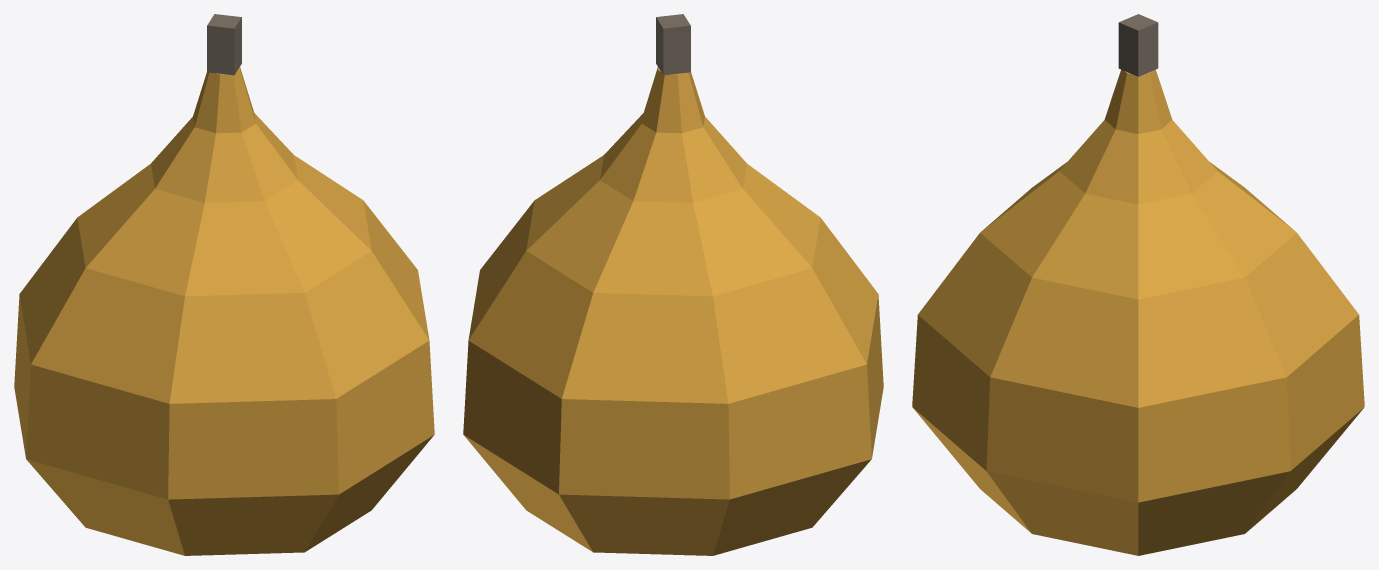
The model's file is FD_Onion_01.glb.
3 renders of one model, left to right at view 1: azimuth 30°, elevation 25°; view 2: azimuth 150°, elevation 25°; view 3: azimuth 270°, elevation 25°, orthographic.
Visible parts, largest first — view 1: FD_Onion_01; view 2: FD_Onion_01; view 3: FD_Onion_01.
Boxes of the visible parts, bbox=[...] form: FD_Onion_01: bbox=[14, 14, 434, 555]; FD_Onion_01: bbox=[463, 14, 883, 555]; FD_Onion_01: bbox=[912, 14, 1364, 555].
Size of the model in its own units: 0.08 by 0.097 by 0.08.
1 material, 1 textured.
